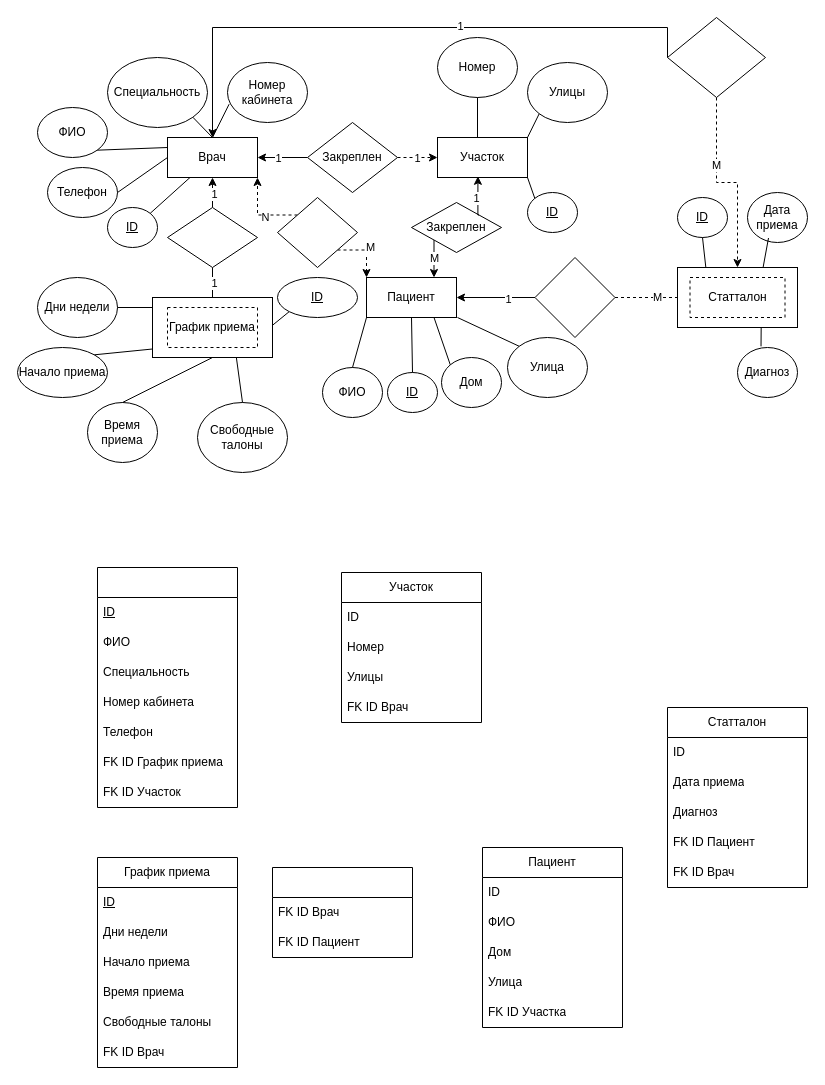
Image size: 825x1085. Some labels were removed from this diagram. Here are the shapes that lost their labels. From the top down, the box of each, then its label:
(666, 16, 766, 98): Выписывает
(166, 206, 258, 268): Имеет
(276, 196, 358, 268): Посетил
(534, 256, 615, 338): Выдан
(96, 566, 238, 808): Врач
(272, 866, 412, 958): врач-пациент
